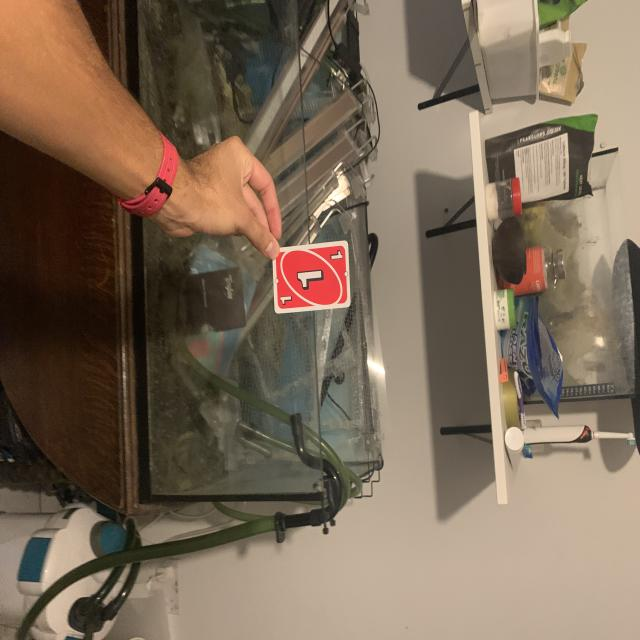lred-1: (328, 248, 344, 264)
